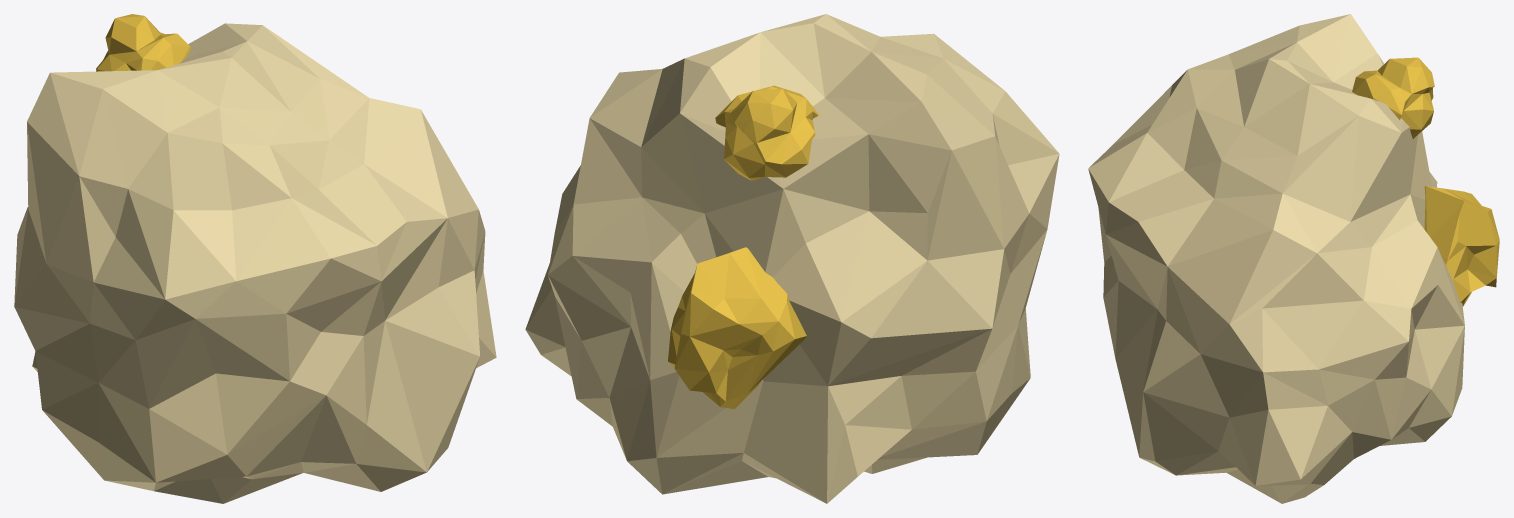
Rendered from MetalOre (28).fbx.
The picture shows the model from 3 angles, left to right: view 1: azimuth 30°, elevation 25°; view 2: azimuth 150°, elevation 25°; view 3: azimuth 270°, elevation 25°; orthographic projection. The views are drawn at different scales.
Visible parts, largest first — view 1: Asteroid383; view 2: Asteroid383; view 3: Asteroid383.
Boxes of the visible parts, <box> form: Asteroid383: <box>14,14,496,503</box>; Asteroid383: <box>525,14,1059,503</box>; Asteroid383: <box>1088,14,1499,503</box>.
Bounding box in the file's own units: 353 × 334 × 315.
